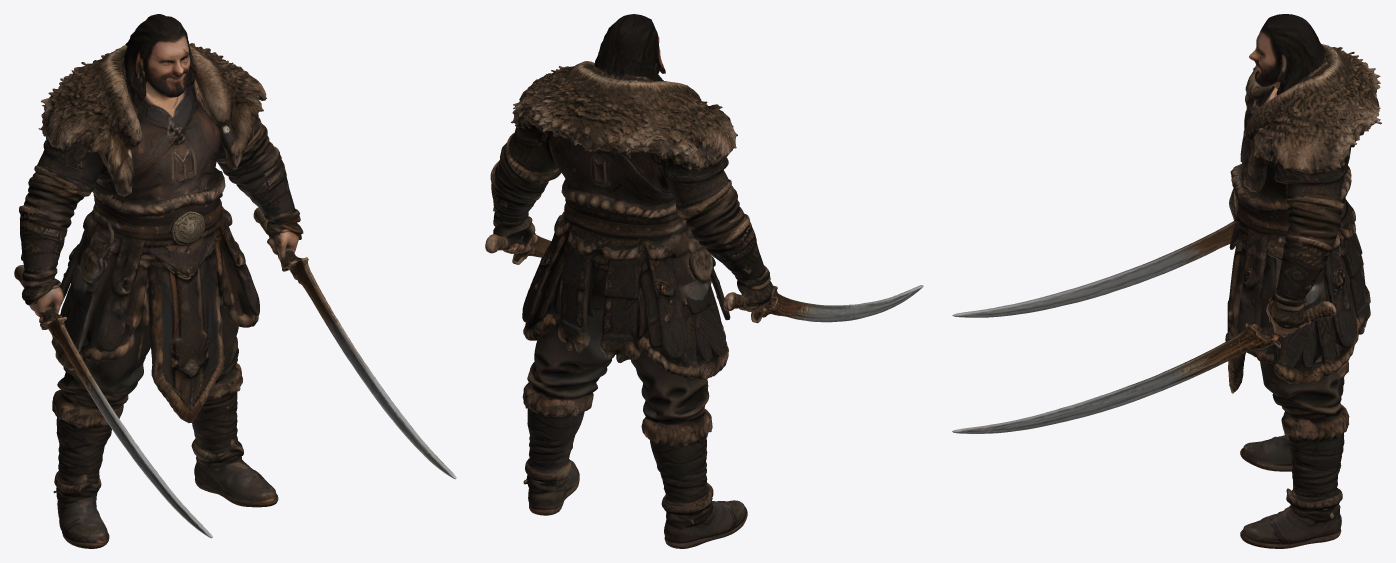
Rendered from barbarian+warrior+3d+model.obj.
3 renders of one model, left to right at view 1: azimuth 30°, elevation 25°; view 2: azimuth 150°, elevation 25°; view 3: azimuth 270°, elevation 25°, orthographic. The views are drawn at different scales.
Visible parts, largest first — view 1: tripo_node_c7885e1b-7ffb-4fb8-8df3-bfeecfaa1165; view 2: tripo_node_c7885e1b-7ffb-4fb8-8df3-bfeecfaa1165; view 3: tripo_node_c7885e1b-7ffb-4fb8-8df3-bfeecfaa1165.
Part boxes in pixels (left/top/right/bottom): tripo_node_c7885e1b-7ffb-4fb8-8df3-bfeecfaa1165: left=14, top=14, right=456, bottom=548; tripo_node_c7885e1b-7ffb-4fb8-8df3-bfeecfaa1165: left=485, top=14, right=923, bottom=548; tripo_node_c7885e1b-7ffb-4fb8-8df3-bfeecfaa1165: left=952, top=14, right=1381, bottom=548.
Bounding box in the file's own units: 0.5772 × 1 × 0.7981.
1 material, 1 textured.
